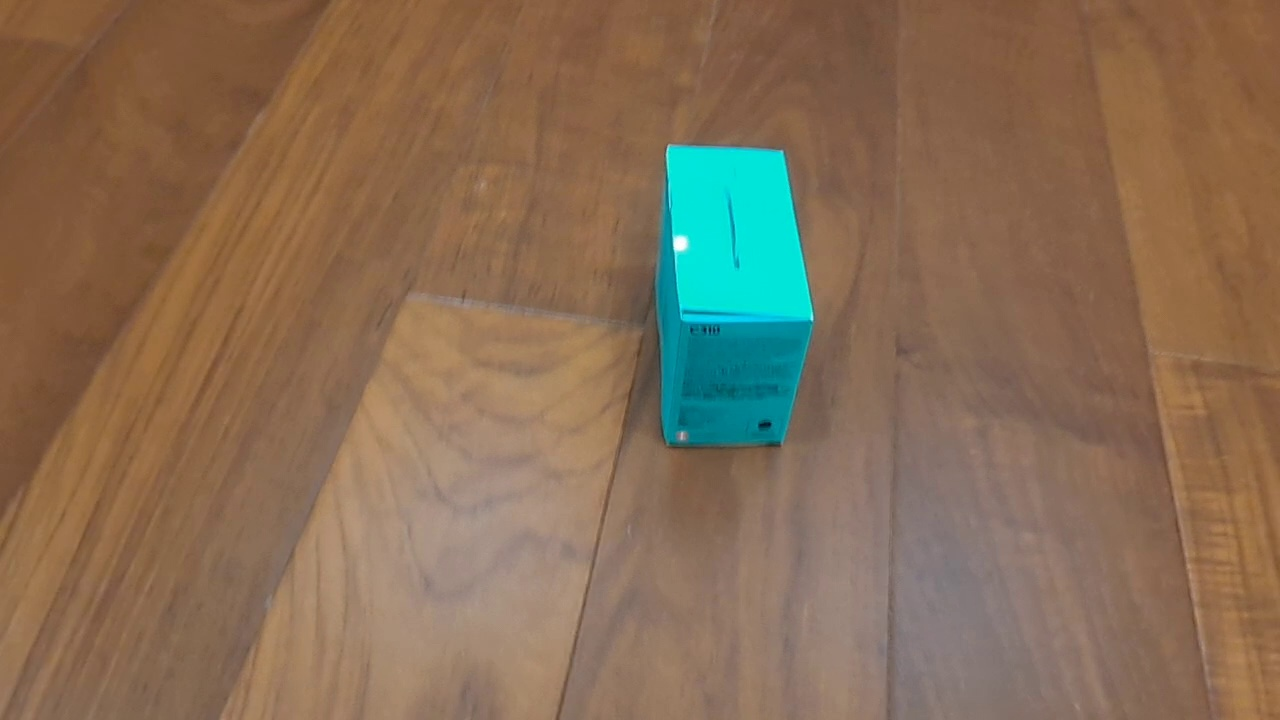webcam: (652, 142, 817, 452)
